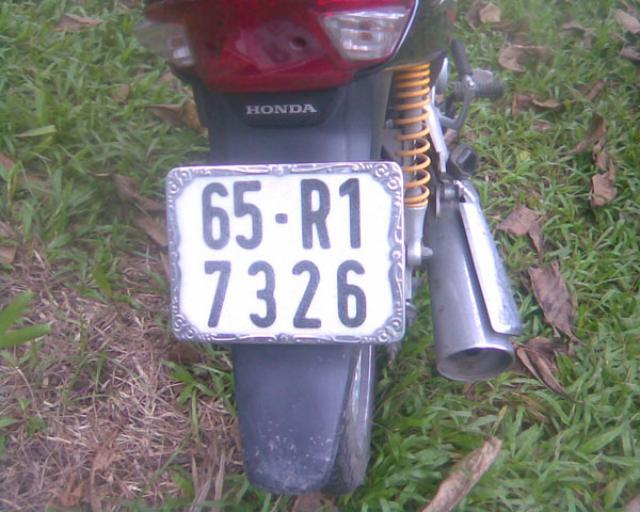plate: (164, 164, 408, 350)
